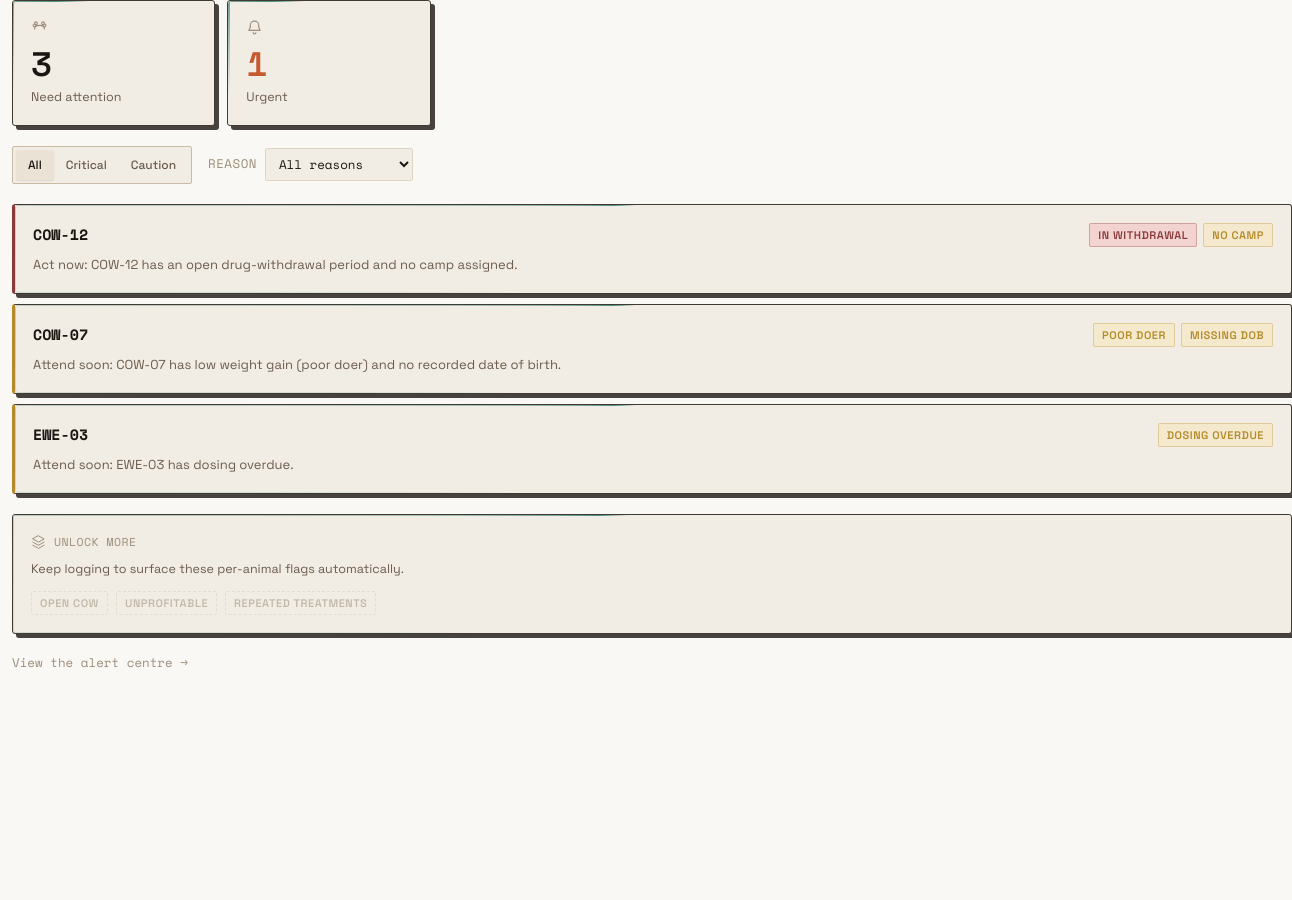
Test: TriageClient — reason filter (slice 3) › narrows to items carrying the selected reason
Select "Poor doer" in the dropdown labelled "Reason" at point(339, 165), box [265, 148, 413, 181]
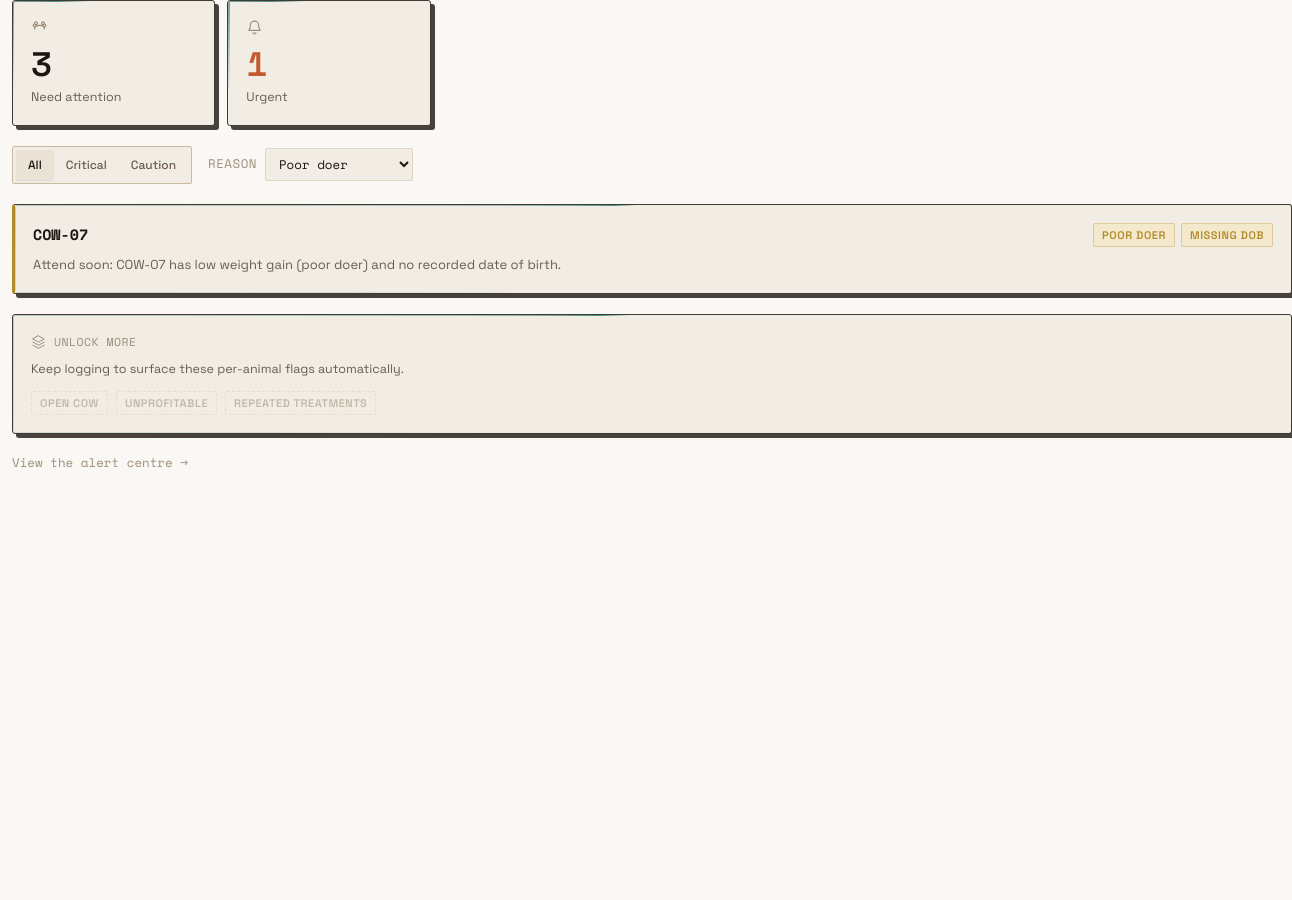
Check: the text "COW-07" is shown, box [33, 223, 88, 245]
Check: the link "COW-12" is gone
Check: the link "EWE-03" is gone
